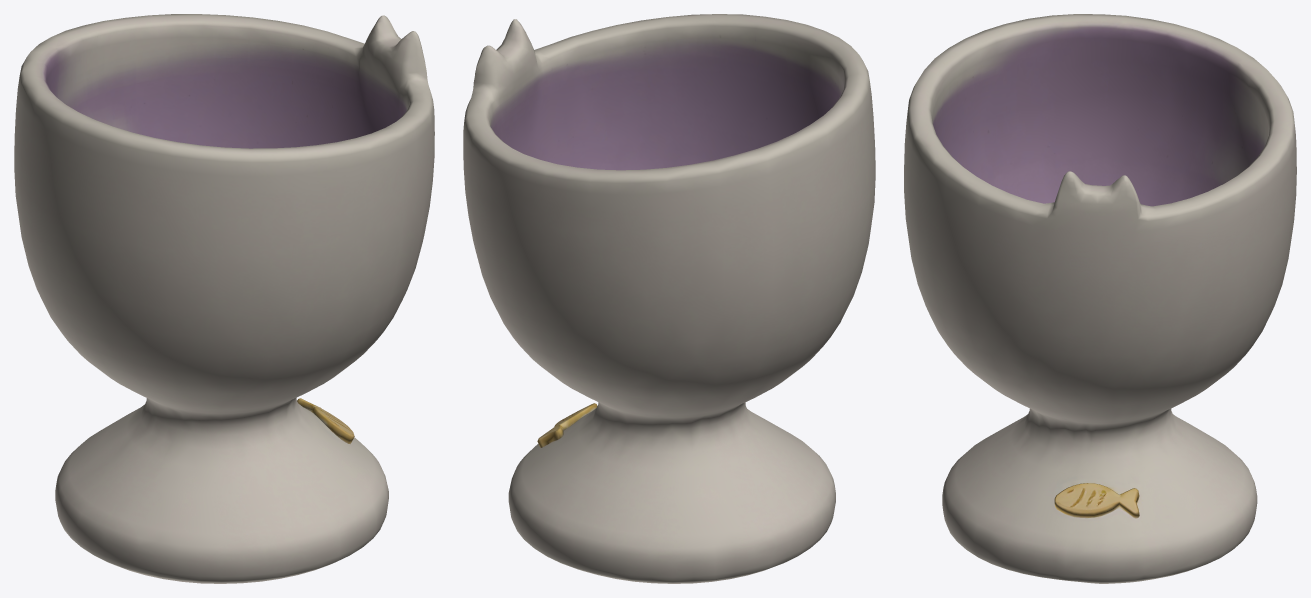
Rendered from false-god-chalice.glb.
3 views of the same model, side by side, from view 1: azimuth 30°, elevation 25°; view 2: azimuth 150°, elevation 25°; view 3: azimuth 270°, elevation 25° (orthographic). The views are drawn at different scales.
Parts seen in each view (by area): view 1: tripo_node_0f7c16dd-5328-45d6-add0-dc2f6cee5da6; view 2: tripo_node_0f7c16dd-5328-45d6-add0-dc2f6cee5da6; view 3: tripo_node_0f7c16dd-5328-45d6-add0-dc2f6cee5da6.
Part boxes in pixels (x1,y1,x2,y2): tripo_node_0f7c16dd-5328-45d6-add0-dc2f6cee5da6: (14,14,434,583); tripo_node_0f7c16dd-5328-45d6-add0-dc2f6cee5da6: (463,14,875,583); tripo_node_0f7c16dd-5328-45d6-add0-dc2f6cee5da6: (904,14,1296,583).
Size of the model in its own units: 0.8354 by 0.9995 by 0.8208.
Materials: 1 (1 with a texture image).
